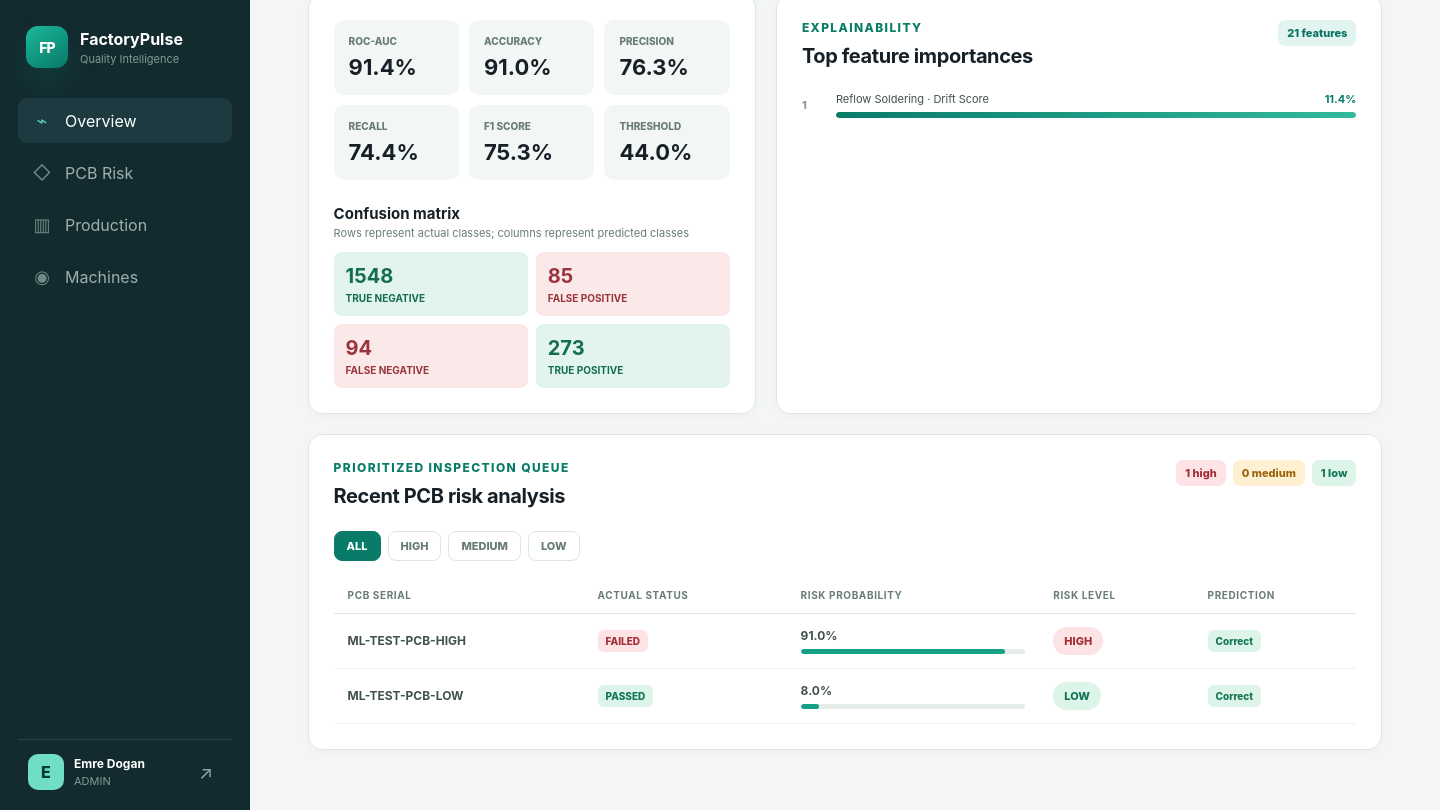
Test: FactoryPulse App › filters the risk table by risk level
(page scrolled)
Expected: the text "ML-TEST-PCB-HIGH" is shown, [348,633,466,648]
Expected: the text "ML-TEST-PCB-LOW" is shown, [348,688,464,703]
Click the button "HIGH". click: (414, 546)
box: [388,531,441,561]
(page scrolled)
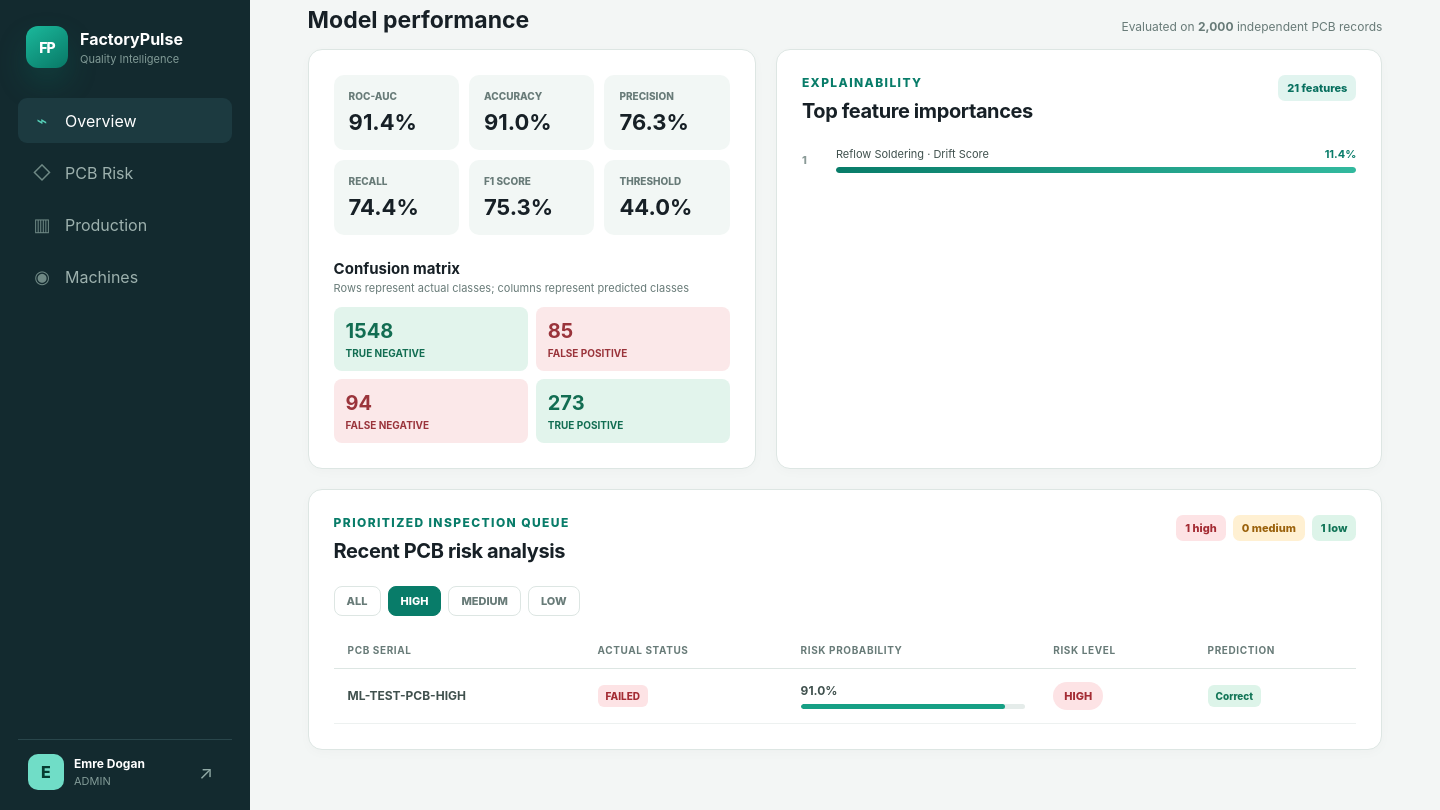
Expected: the text "ML-TEST-PCB-HIGH" is shown, [348,688,466,703]
Expected: the text "ML-TEST-PCB-LOW" is gone
